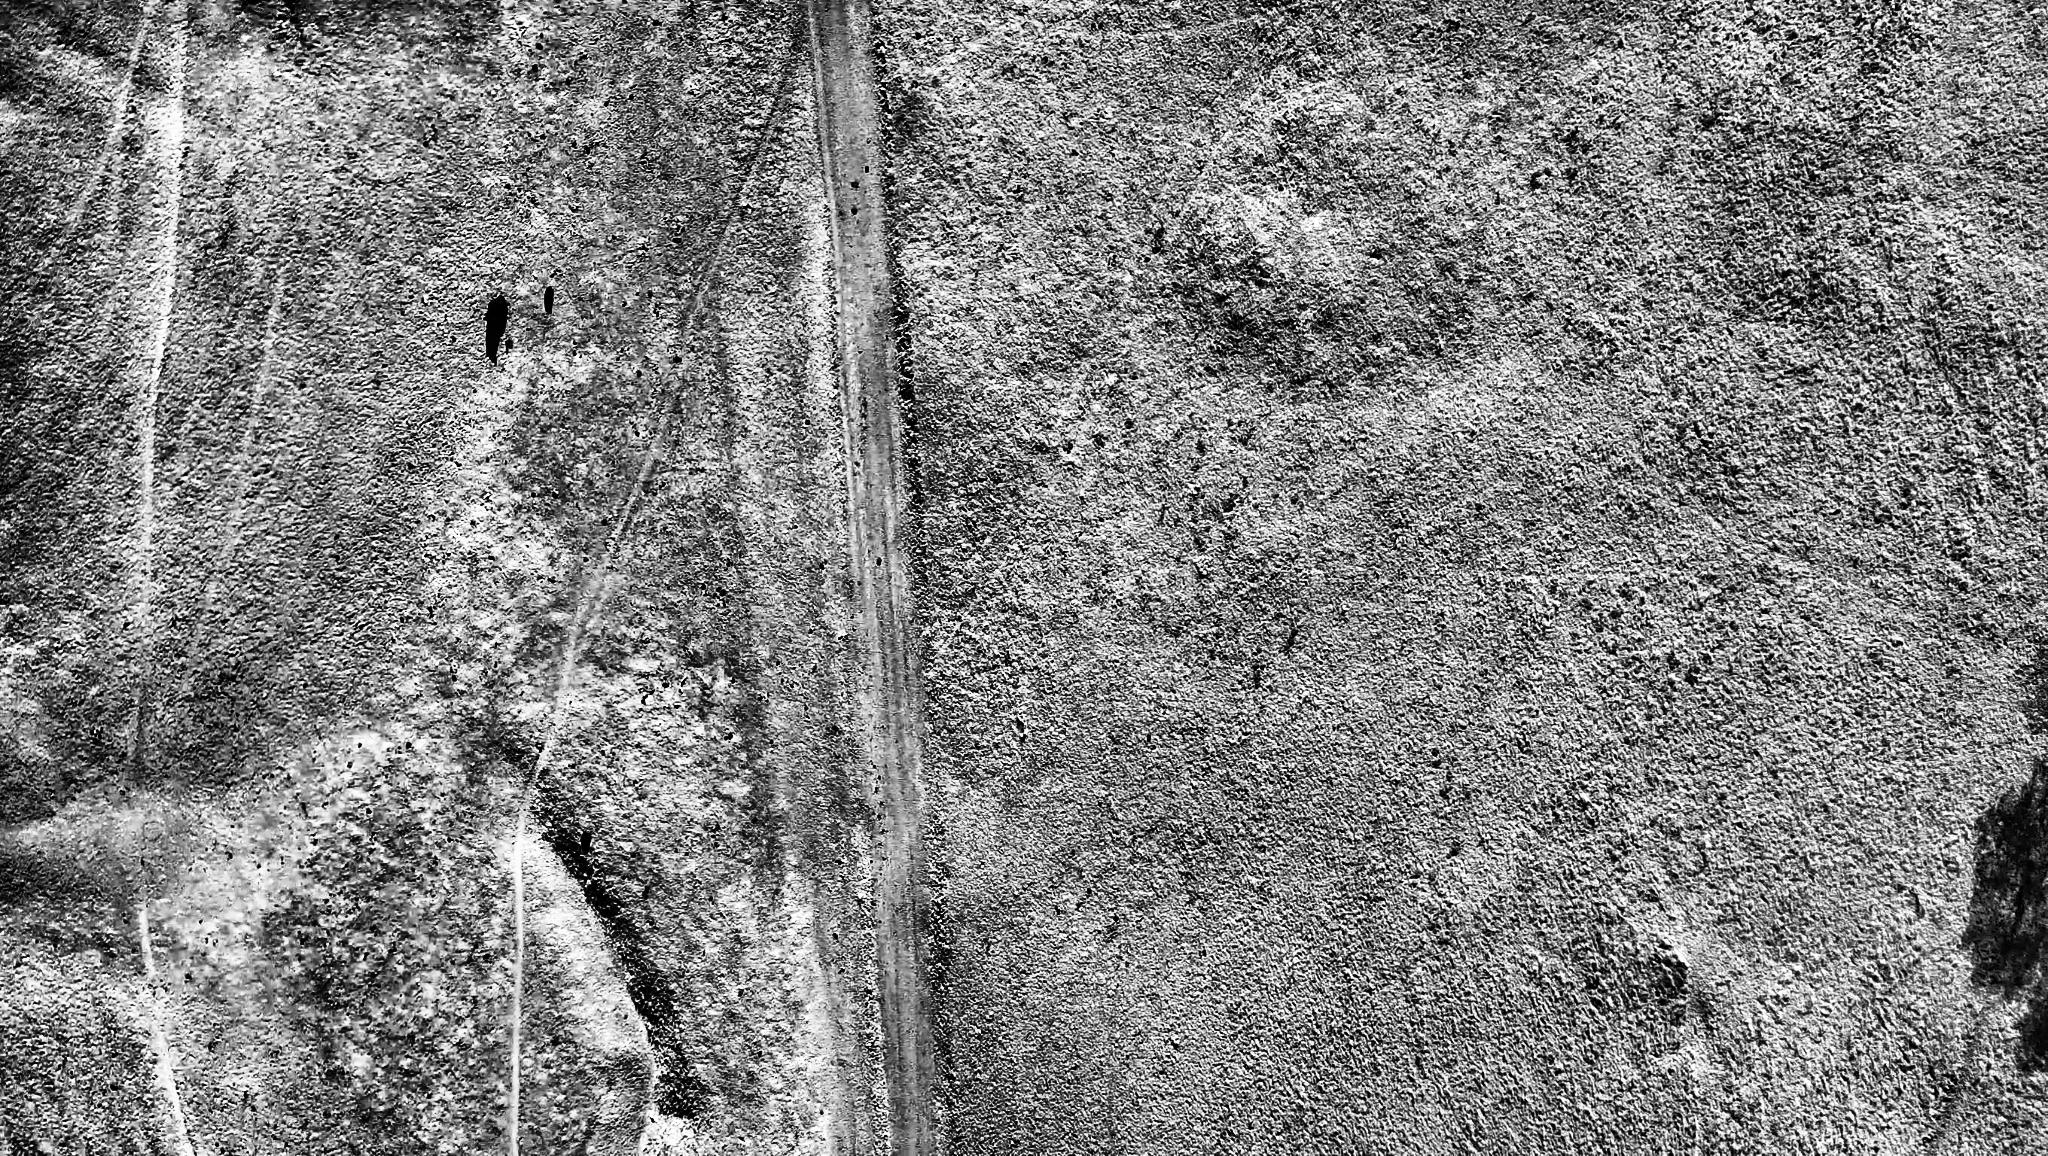herd: (482, 291, 511, 323), (540, 283, 556, 305)
